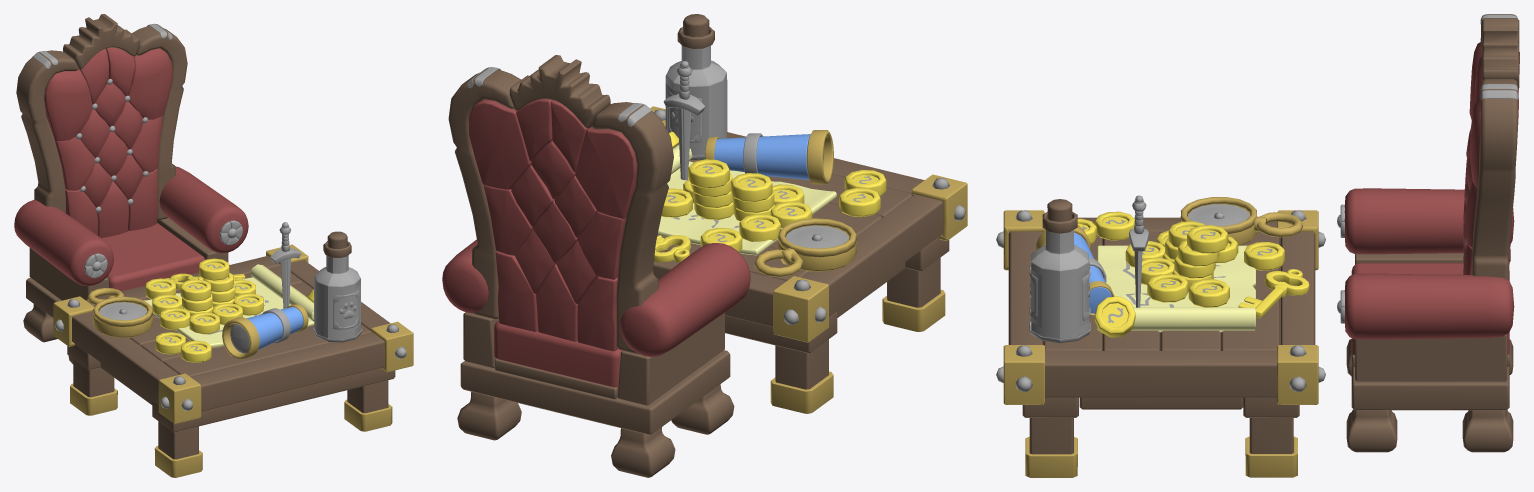
File: Accessories.fbx
3 views of the same model, side by side, from view 1: azimuth 30°, elevation 25°; view 2: azimuth 150°, elevation 25°; view 3: azimuth 270°, elevation 25° (orthographic). The views are drawn at different scales.
Visible parts, largest first — view 1: M_Accessories19, M_Accessories22, S_Accessories38, M_Accessories43, M_Accessories23, M_Accessories13, M_Accessories5, S_Accessories37, M_Accessories32, M_Accessories38, M_Accessories11, S_Accessories39 (+48 smaller); view 2: M_Accessories22, S_Accessories38, M_Accessories44, M_Accessories13, S_Accessories37, M_Accessories43, M_Accessories24, M_Accessories32, M_Accessories38, S_Accessories39, M_Accessories17, S_Accessories13 (+49 smaller); view 3: M_Accessories12, M_Accessories23, M_Accessories22, S_Accessories37, M_Accessories25, S_Accessories13, M_Accessories44, M_Accessories18, M_Accessories19, S_Accessories39, M_Accessories4, S_Accessories29 (+37 smaller).
Part boxes in pixels (x1,y1,x2,y2): M_Accessories19: (190, 332, 384, 411); M_Accessories22: (14, 199, 113, 285); S_Accessories38: (16, 50, 77, 212); M_Accessories43: (101, 223, 205, 291); M_Accessories23: (159, 166, 248, 253); M_Accessories13: (72, 311, 179, 404); M_Accessories5: (152, 368, 395, 432); S_Accessories37: (132, 25, 187, 220); M_Accessories32: (44, 69, 92, 141); M_Accessories38: (128, 48, 172, 119); M_Accessories11: (163, 324, 371, 376); S_Accessories39: (63, 14, 139, 69); M_Accessories22: (620, 243, 750, 357); S_Accessories38: (592, 102, 673, 354); M_Accessories44: (460, 350, 730, 435); M_Accessories13: (801, 194, 943, 317); S_Accessories37: (448, 69, 520, 318); M_Accessories43: (494, 321, 622, 387); M_Accessories24: (617, 312, 724, 405); M_Accessories32: (575, 126, 637, 219); M_Accessories38: (468, 99, 531, 189); S_Accessories39: (509, 55, 610, 128); M_Accessories17: (714, 134, 810, 179); S_Accessories13: (657, 144, 836, 255); M_Accessories12: (1045, 351, 1276, 397); M_Accessories23: (1344, 273, 1514, 339); M_Accessories22: (1344, 188, 1514, 254); S_Accessories37: (1472, 79, 1517, 280); M_Accessories25: (1355, 334, 1507, 381); S_Accessories13: (1097, 245, 1255, 332); M_Accessories44: (1351, 366, 1509, 410); M_Accessories18: (1280, 231, 1315, 344); M_Accessories19: (1008, 231, 1043, 344); S_Accessories39: (1482, 18, 1519, 88); M_Accessories4: (1221, 231, 1279, 350); S_Accessories29: (1277, 345, 1318, 404).
Bounding box in the file's own units: 519 × 591 × 724.
